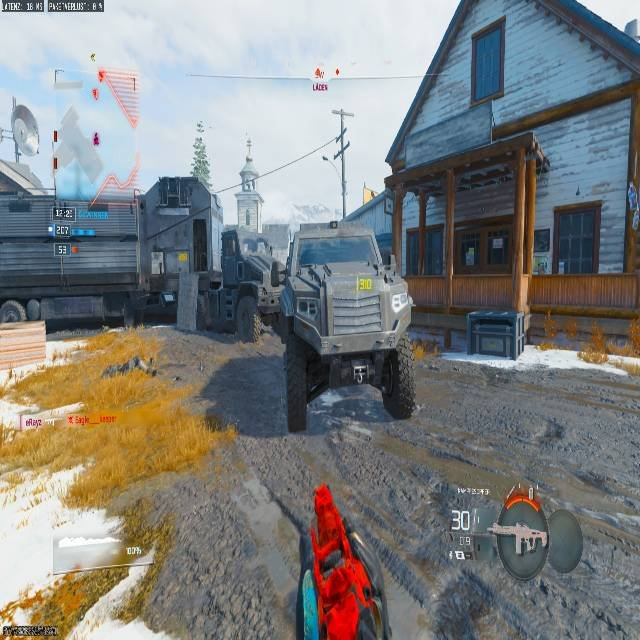player: (255, 316, 263, 339)
